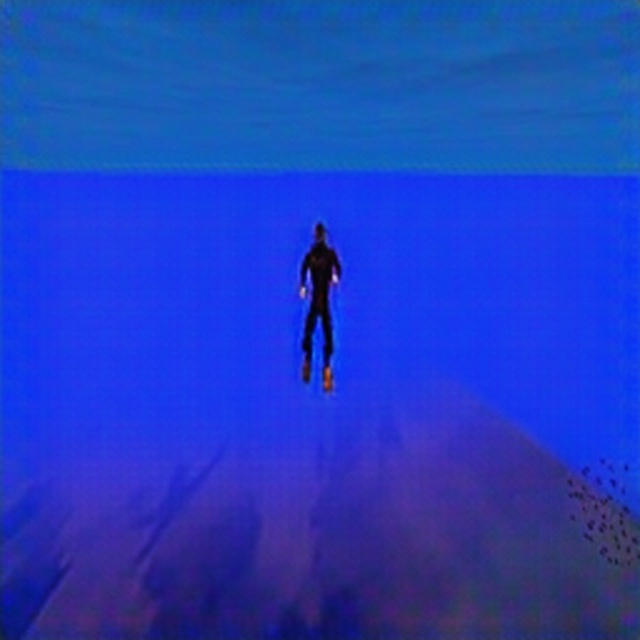diver: (296, 219, 343, 395)
